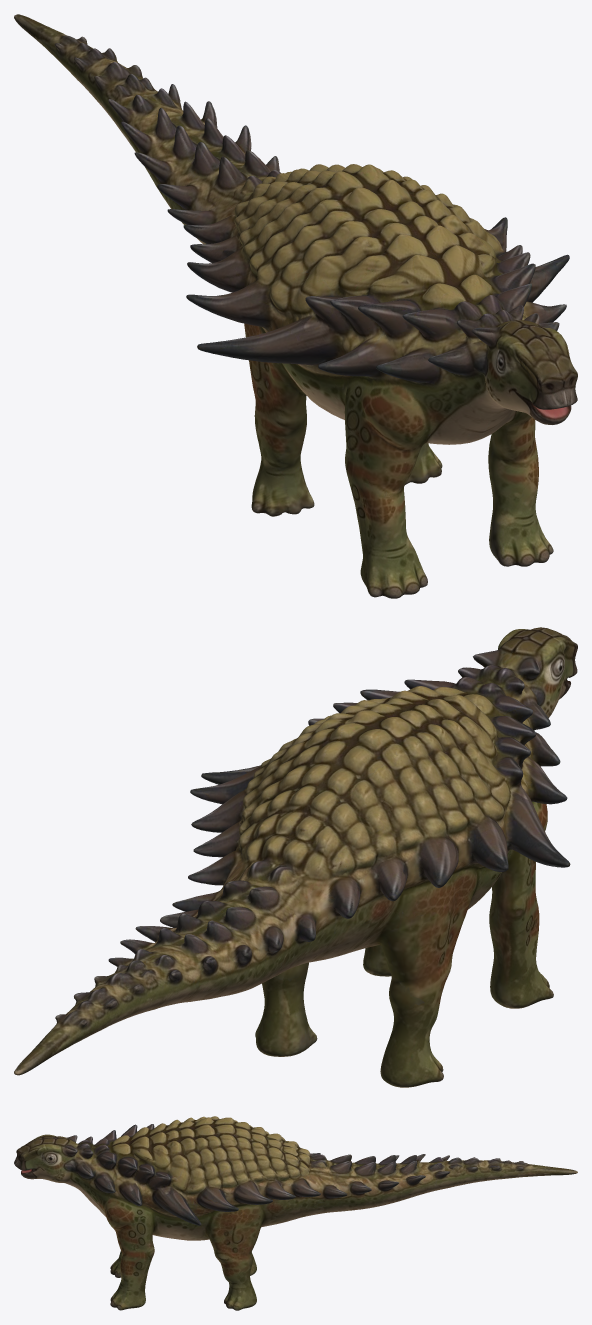
The model's file is N-dino.glb.
3 views of the same model, one above another, from view 1: azimuth 30°, elevation 25°; view 2: azimuth 150°, elevation 25°; view 3: azimuth 270°, elevation 25° (orthographic). The views are drawn at different scales.
Size of the model in its own units: 0.7369 by 0.6212 by 1.9.
Materials: 1 (1 with a texture image).
